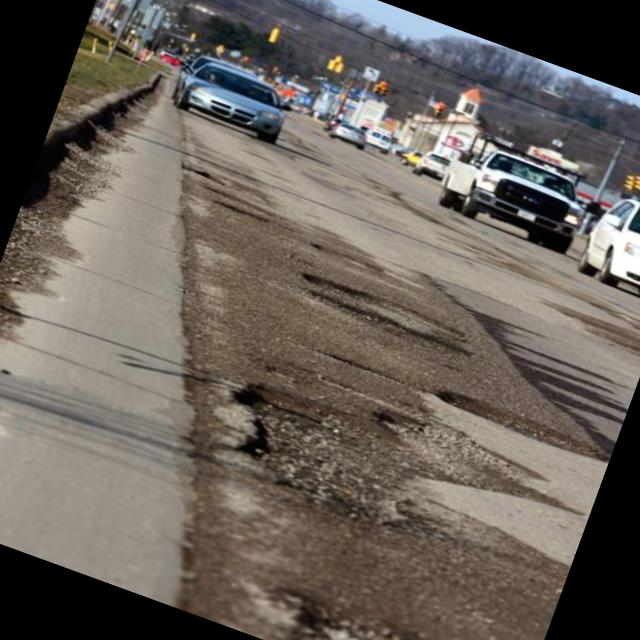Potholes: (192, 342, 606, 625), (154, 500, 469, 640), (302, 256, 488, 366), (418, 374, 616, 477)
